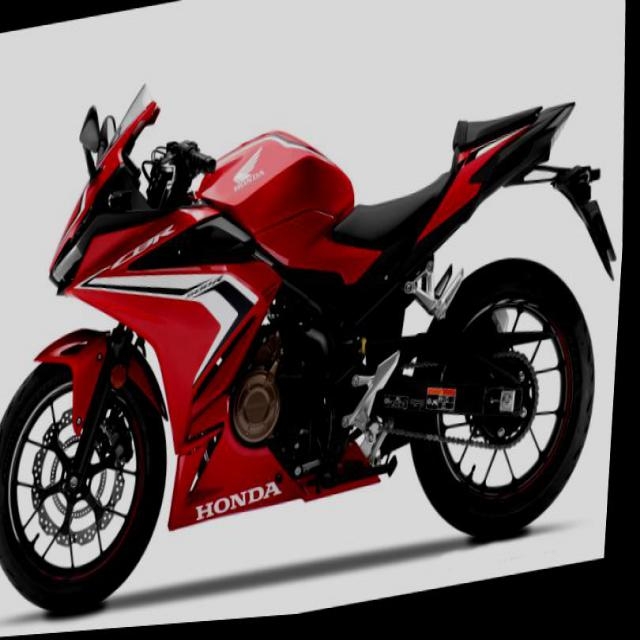CBR500R: (0, 7, 624, 633)
